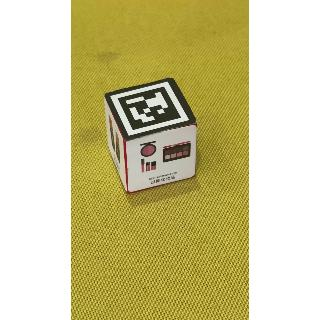Expired_Cosmetic: (126, 131, 199, 189)
